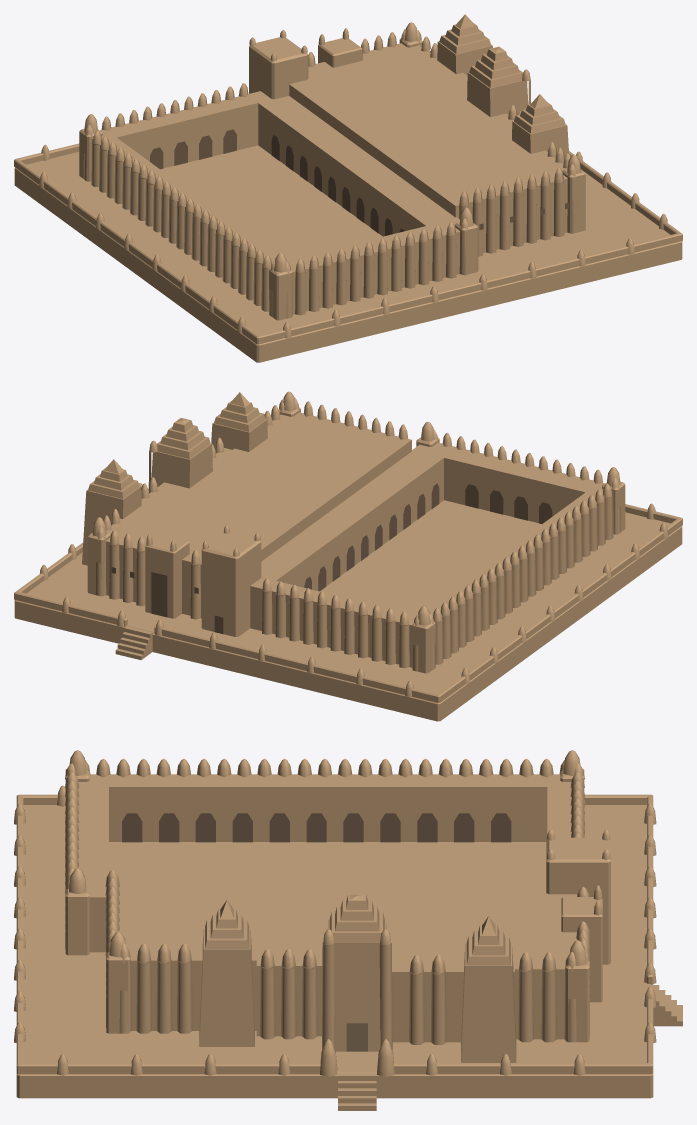
Rendered from djenne-great-mosque.glb.
The picture shows the model from 3 angles, top to bottom: view 1: azimuth 30°, elevation 25°; view 2: azimuth 150°, elevation 25°; view 3: azimuth 270°, elevation 25°; orthographic projection. The views are drawn at different scales.
Parts seen in each view (by area): view 1: Great Mosque of Djenné; view 2: Great Mosque of Djenné; view 3: Great Mosque of Djenné.
Part boxes in pixels (x1,y1,x2,y2): Great Mosque of Djenné: (14, 14, 682, 362); Great Mosque of Djenné: (14, 391, 682, 721); Great Mosque of Djenné: (14, 750, 682, 1110).
Size of the model in its own units: 73.1 by 20 by 72.5.
